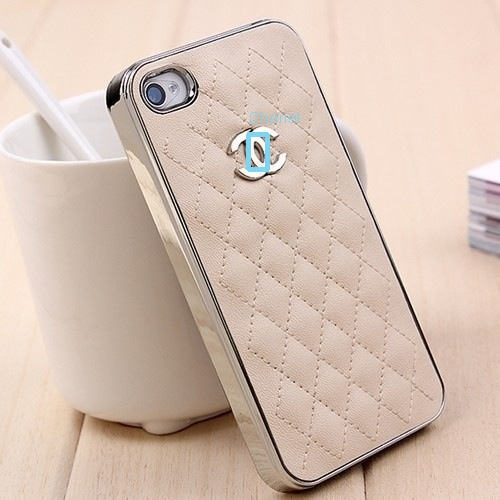Chanel: (227, 124, 291, 182)
